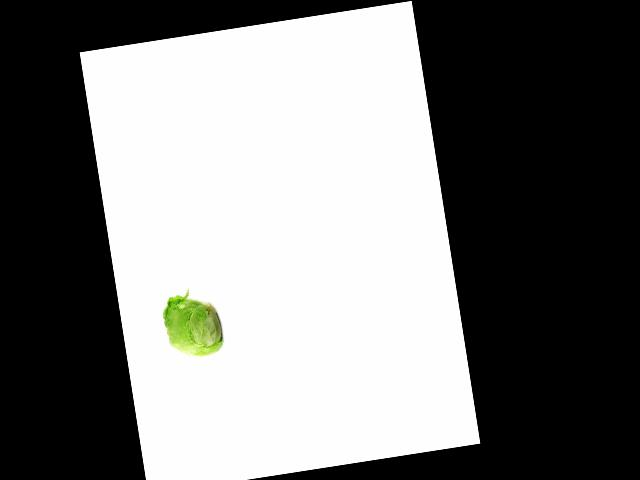lettuce: (158, 291, 227, 364)
